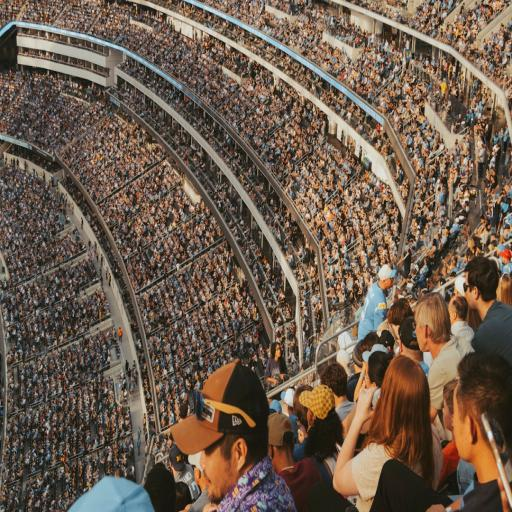face: (201, 441, 237, 504), (453, 388, 467, 460), (415, 315, 428, 351), (465, 274, 475, 308), (443, 399, 452, 430)
